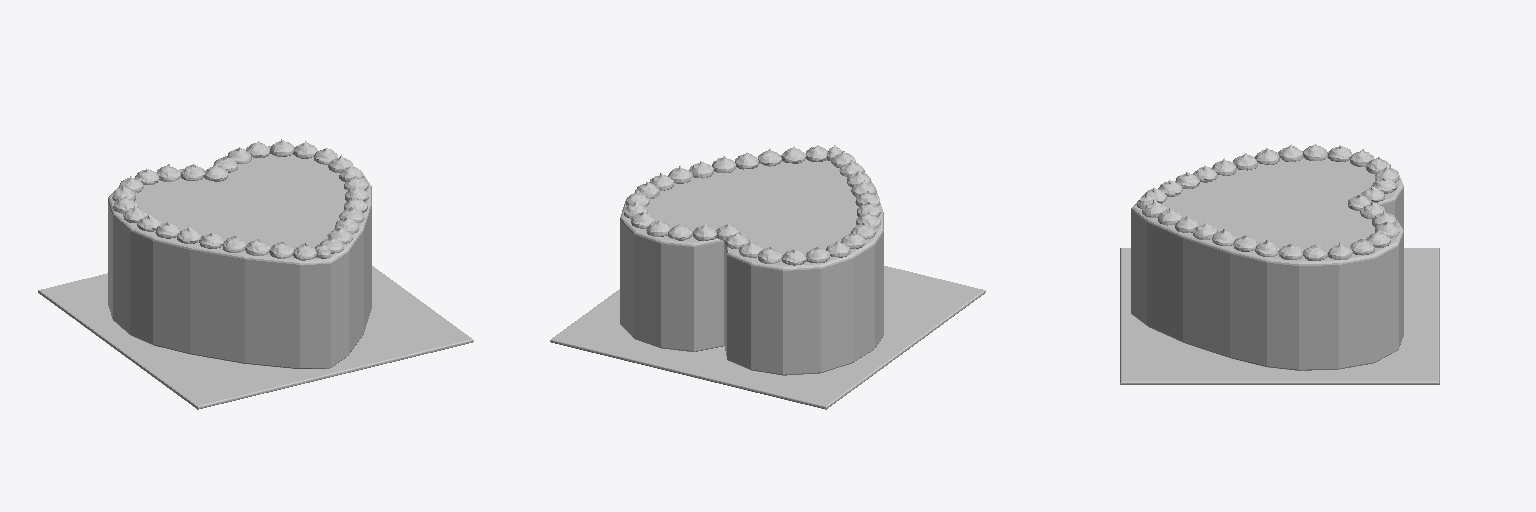
File: heart-cake-001.obj
3 renders of one model, left to right at view 1: azimuth 30°, elevation 25°; view 2: azimuth 150°, elevation 25°; view 3: azimuth 270°, elevation 25°, orthographic.
Parts seen in each view (by area): view 1: cake, base, cream; view 2: cake, base, cream; view 3: cake, base, cream.
Boxes of the visible parts, x1,y1,x2,y2 form: cake: [108, 146, 371, 368]; base: [38, 266, 473, 409]; cream: [112, 139, 368, 260]; cake: [620, 153, 883, 375]; base: [550, 266, 985, 409]; cream: [624, 145, 880, 265]; cake: [1131, 151, 1403, 370]; base: [1120, 248, 1439, 384]; cream: [1137, 144, 1399, 260].
Bounding box in the file's own units: 0.24 × 0.1032 × 0.24.